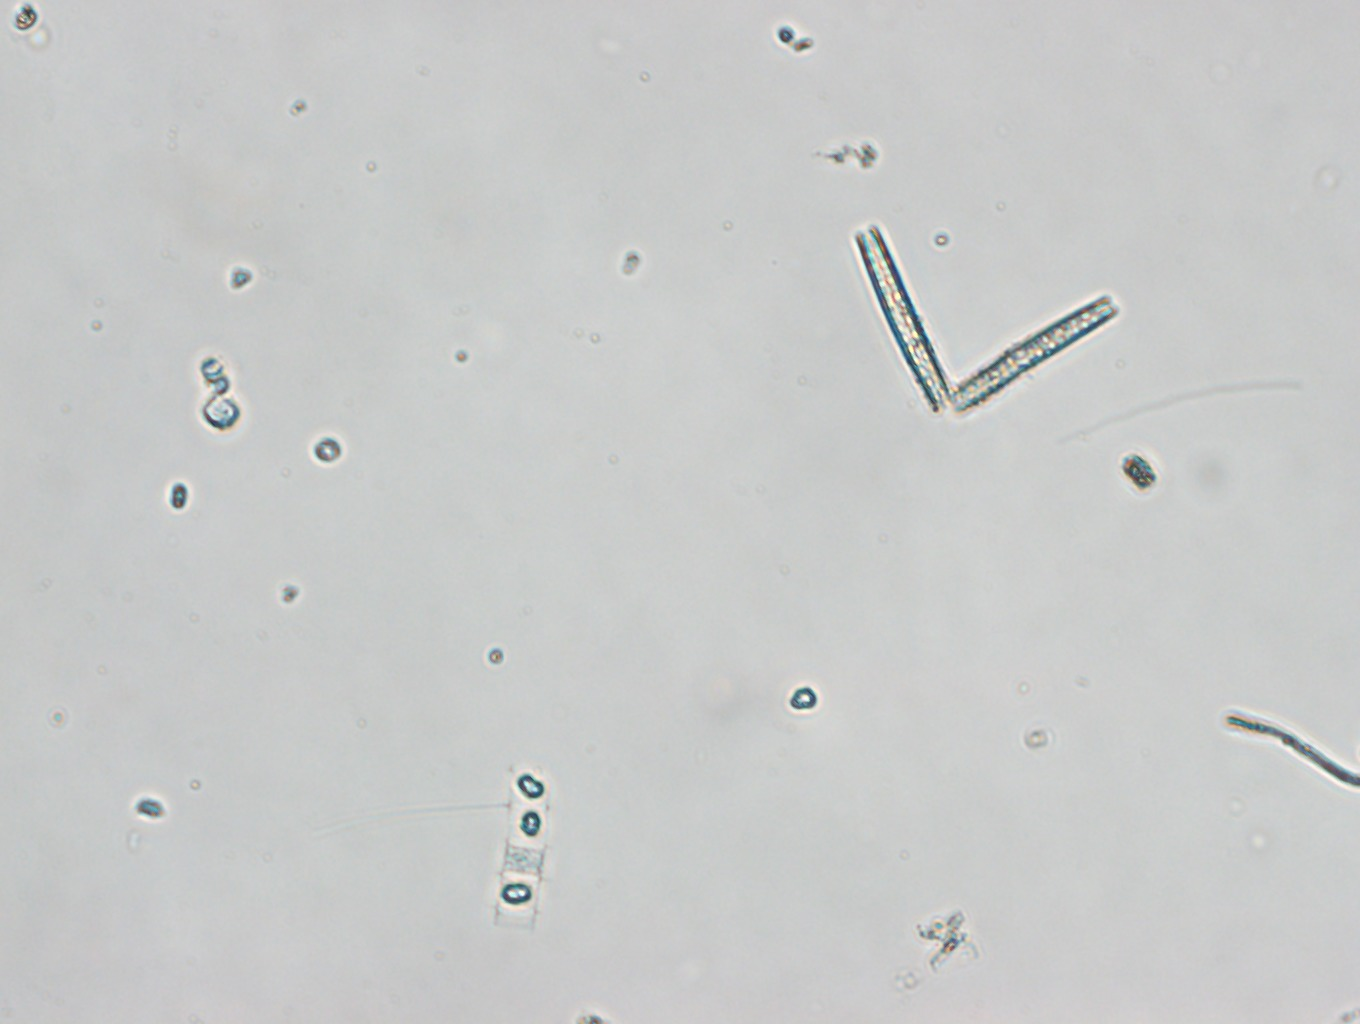thalassionema nitzschioides: (849, 221, 1120, 419)
